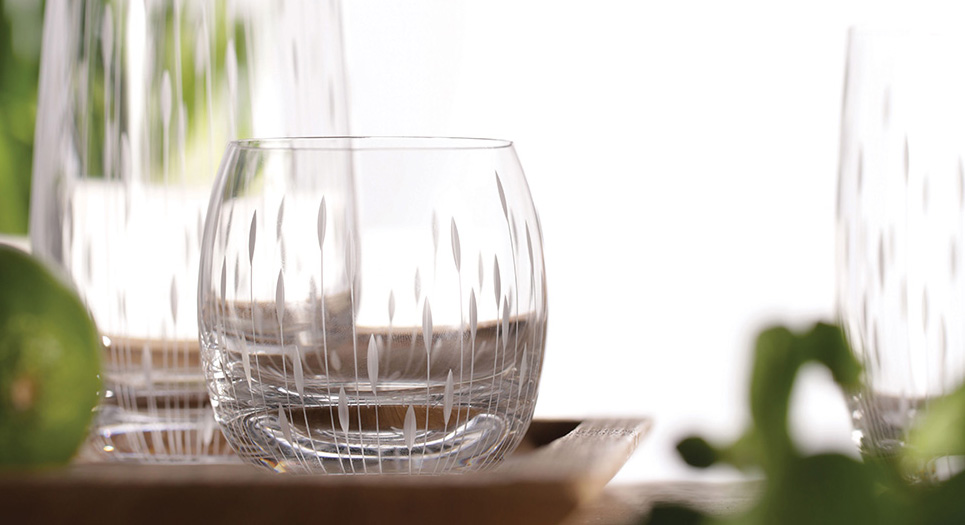Nonrec_Glass: (33, 1, 378, 453), (196, 128, 541, 469), (821, 20, 960, 479)
